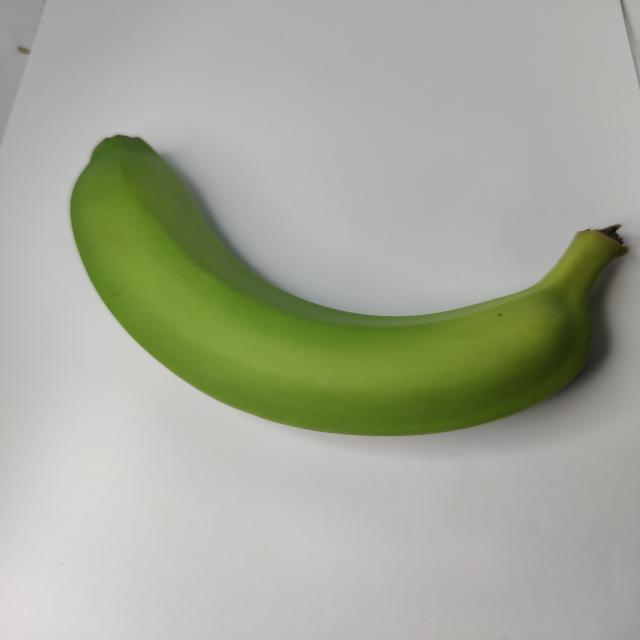raw: (49, 101, 640, 465)
